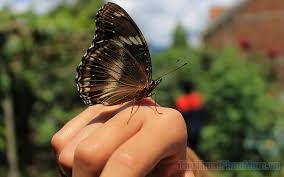Butterfly: (74, 2, 184, 120)
